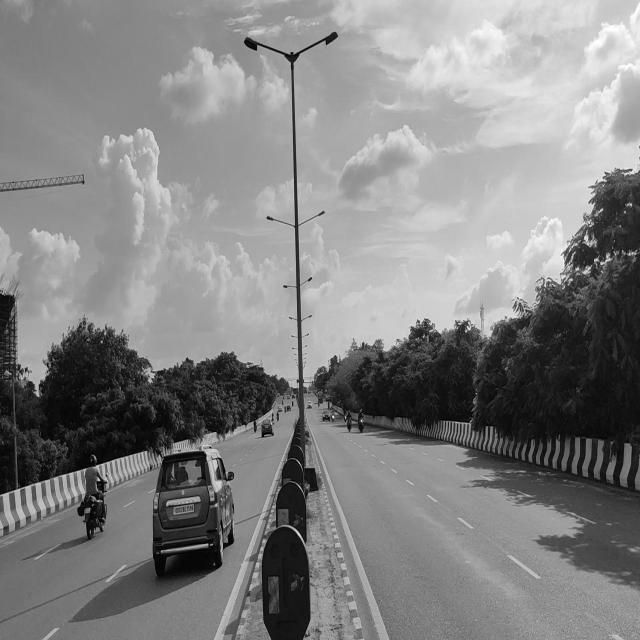bike: (78, 446, 109, 541)
car: (151, 442, 241, 570)
license-plate: (168, 502, 200, 515)
